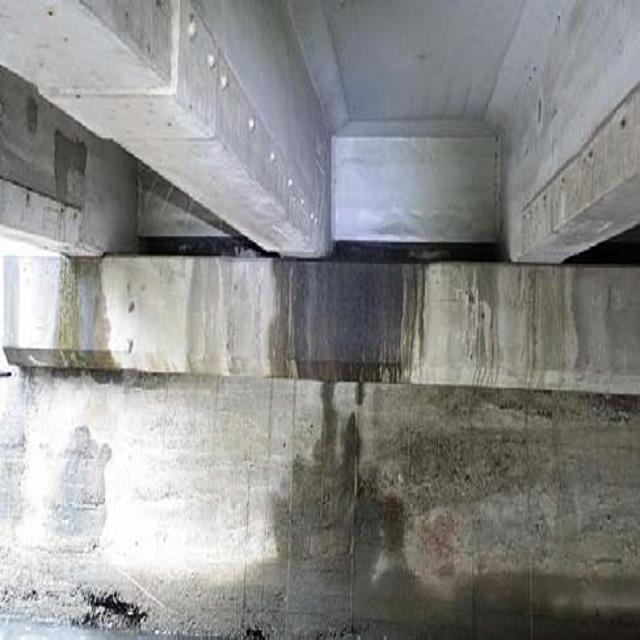leakage: (271, 232, 416, 402), (49, 248, 114, 378)
